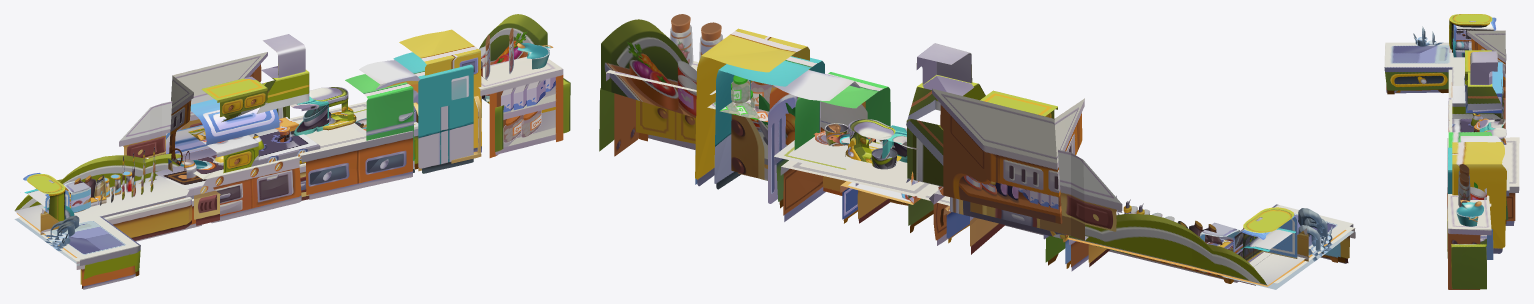
The model's file is chufang.fbx.
3 renders of one model, left to right at view 1: azimuth 30°, elevation 25°; view 2: azimuth 150°, elevation 25°; view 3: azimuth 270°, elevation 25°, orthographic. The views are drawn at different scales.
Parts seen in each view (by area): view 1: xiwanchi_20054, zaotai_20052, zaotai_20054, gongjutai_20052, huojia_20052, binxiang_20052, zaotai_20051, xiwanchi_20051, zaotai_20053, huojia_20054, binxiang_20054, binxiang_20051 (+6 smaller); view 2: zaotai_20052, xiwanchi_20054, huojia_20054, zaotai_20054, zaotai_20051, binxiang_20054, gongjutai_20052, binxiang_20053, gongjutai_20054, binxiang_20052, huojia_20052, xiwanchi_20053 (+8 smaller); view 3: xiwanchi_20054, binxiang_20054, zaotai_20054, huojia_20052, huojia_20054, gongjutai_20052, zaotai_20052, zaotai_20053, xiwanchi_20053, xiwanchi_20052, gongjutai_20054, binxiang_20051 (+4 smaller).
Boxes of the visible parts, x1=… form: xiwanchi_20054: x1=14, y1=147, x2=193, y2=279; zaotai_20052: x1=169, y1=52, x2=301, y2=223; zaotai_20054: x1=188, y1=34, x2=320, y2=173; gongjutai_20052: x1=290, y1=96, x2=413, y2=199; huojia_20052: x1=478, y1=28, x2=563, y2=157; binxiang_20052: x1=393, y1=52, x2=473, y2=173; zaotai_20051: x1=119, y1=93, x2=223, y2=225; xiwanchi_20051: x1=18, y1=175, x2=191, y2=288; zaotai_20053: x1=166, y1=99, x2=279, y2=171; huojia_20054: x1=479, y1=14, x2=570, y2=151; binxiang_20054: x1=399, y1=29, x2=481, y2=152; binxiang_20051: x1=345, y1=74, x2=414, y2=172; zaotai_20052: x1=929, y1=88, x2=1084, y2=245; xiwanchi_20054: x1=1043, y1=195, x2=1353, y2=285; huojia_20054: x1=599, y1=19, x2=696, y2=151; zaotai_20054: x1=906, y1=43, x2=1057, y2=232; zaotai_20051: x1=970, y1=149, x2=1122, y2=254; binxiang_20054: x1=695, y1=28, x2=809, y2=186; gongjutai_20052: x1=780, y1=125, x2=938, y2=221; binxiang_20053: x1=768, y1=70, x2=867, y2=203; gongjutai_20054: x1=774, y1=119, x2=901, y2=208; binxiang_20052: x1=714, y1=56, x2=824, y2=189; huojia_20052: x1=606, y1=14, x2=723, y2=156; xiwanchi_20053: x1=1063, y1=216, x2=1346, y2=286; xiwanchi_20054: x1=1384, y1=14, x2=1492, y2=94; binxiang_20054: x1=1452, y1=142, x2=1506, y2=253; zaotai_20054: x1=1452, y1=50, x2=1503, y2=142; huojia_20052: x1=1448, y1=164, x2=1491, y2=289; huojia_20054: x1=1447, y1=187, x2=1486, y2=289; gongjutai_20052: x1=1447, y1=118, x2=1519, y2=225; zaotai_20052: x1=1448, y1=30, x2=1505, y2=137; zaotai_20053: x1=1464, y1=62, x2=1503, y2=113; xiwanchi_20053: x1=1395, y1=17, x2=1496, y2=92; xiwanchi_20052: x1=1386, y1=35, x2=1468, y2=93; gongjutai_20054: x1=1484, y1=127, x2=1509, y2=223; binxiang_20051: x1=1448, y1=132, x2=1492, y2=147.
Bounding box in the file's own units: 12.88 × 3.36 × 3.29.
Materials: 1 (1 with a texture image).
